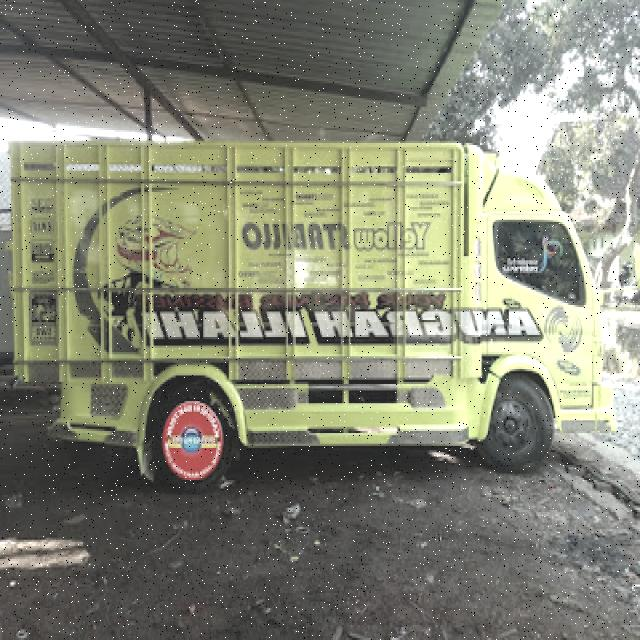truck: (1, 136, 628, 486)
